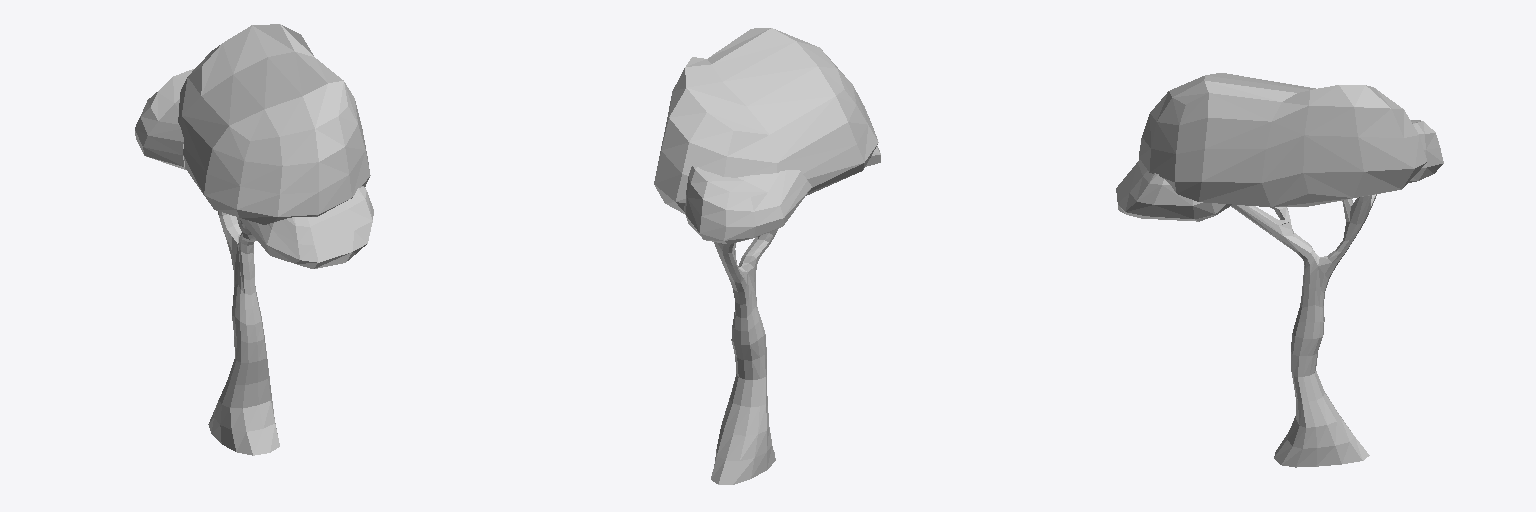
Rendered from Abrol_groups (1).obj.
3 renders of one model, left to right at view 1: azimuth 30°, elevation 25°; view 2: azimuth 150°, elevation 25°; view 3: azimuth 270°, elevation 25°, orthographic.
Visible parts, largest first — view 1: pCube83 arbol, arbol pCube86, arbol pCube85, arbol pCube84; view 2: pCube83 arbol, arbol pCube86, arbol pCube84; view 3: pCube83 arbol, arbol pCube86, arbol pCube85, arbol pCube84.
Part boxes in pixels (x1,y1,x2,y2): pCube83 arbol: (178, 24, 370, 224); arbol pCube86: (208, 211, 279, 455); arbol pCube85: (238, 186, 373, 268); arbol pCube84: (135, 69, 193, 169); pCube83 arbol: (654, 28, 878, 213); arbol pCube86: (711, 228, 778, 484); arbol pCube84: (684, 165, 811, 244); pCube83 arbol: (1139, 73, 1426, 206); arbol pCube86: (1231, 194, 1376, 467); arbol pCube85: (1116, 159, 1231, 221); arbol pCube84: (1409, 120, 1443, 182).
Bounding box in the file's own units: 2.83 × 7.17 × 5.41.